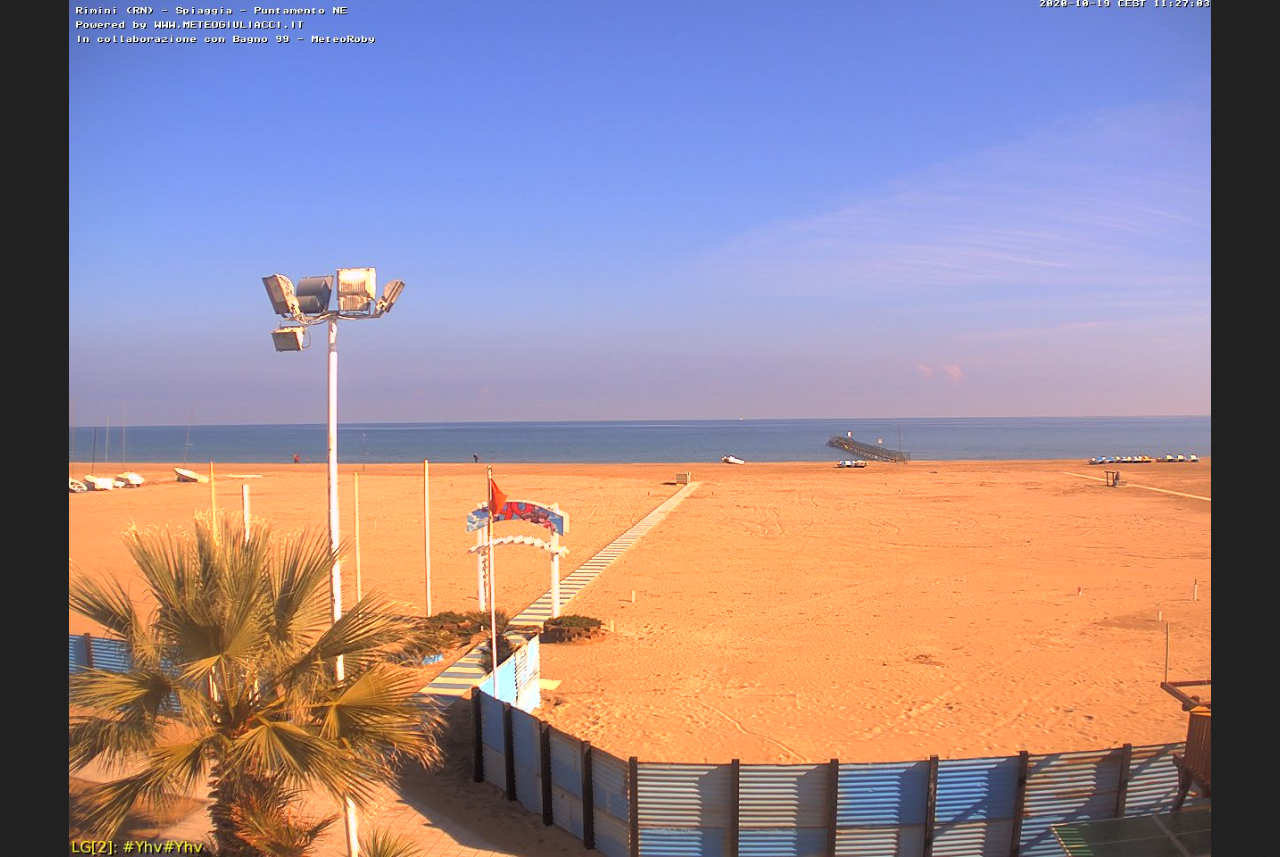maybe: (483, 472, 508, 522)
